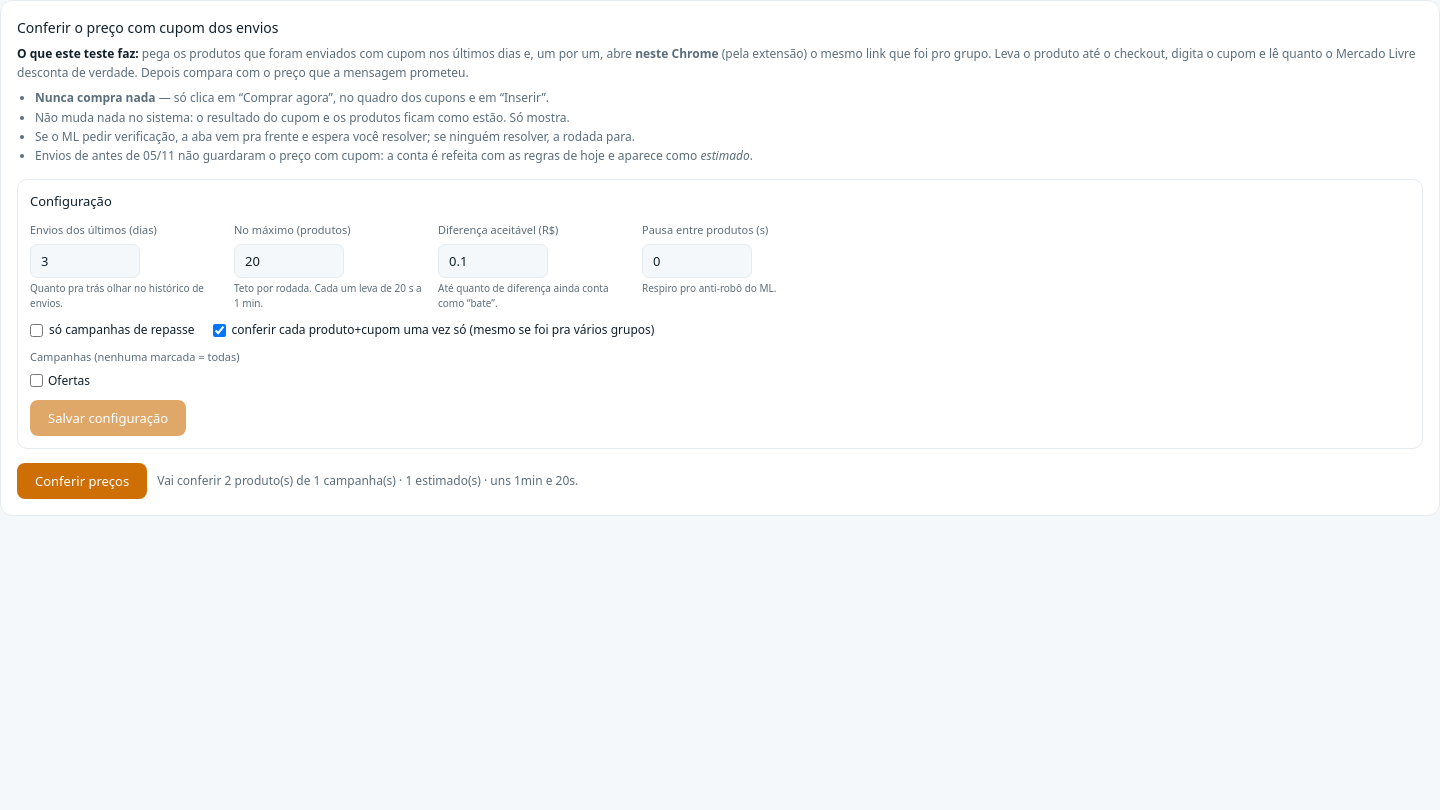
it: Cupons Teste › confere um por um: a barra anda, a tabela mostra o resultado e a rodada fecha como concluída
Click the button "Conferir preços" at (82, 481), box 17,463 -> 147,499
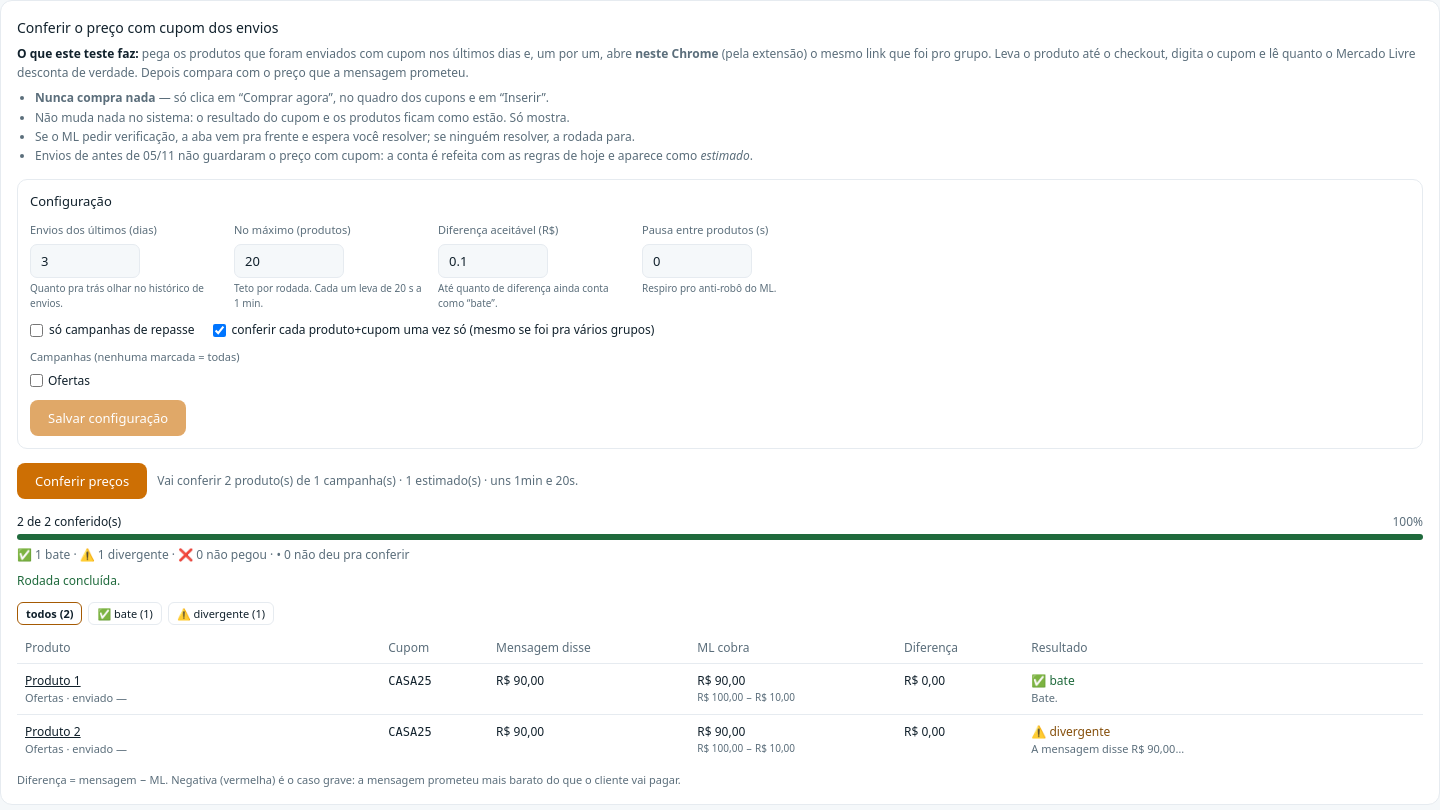
Result: the text "2 de 2 conferido(s)" is shown at 17,513 -> 121,531
Result: the text "Rodada concluída." is shown at 17,572 -> 120,589
Result: the text "⚠️ divergente" is shown at 1031,723 -> 1110,740
